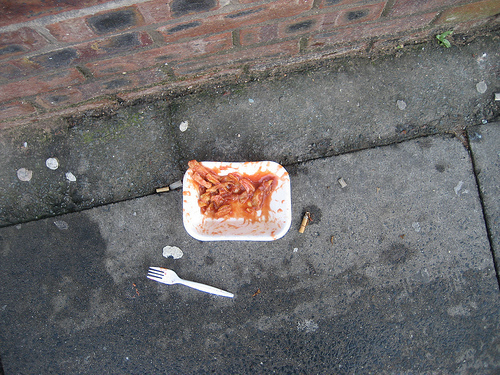litter: (181, 159, 293, 242), (145, 266, 234, 300), (299, 211, 311, 236), (153, 186, 169, 194)
